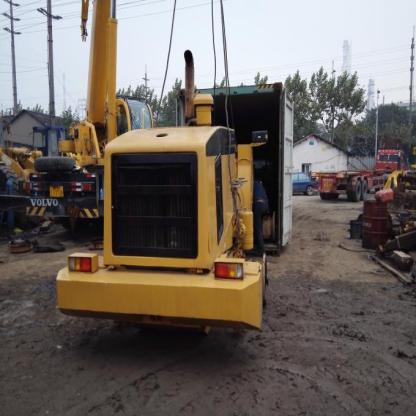bull_dozer/loader/grader: (59, 66, 282, 335)
